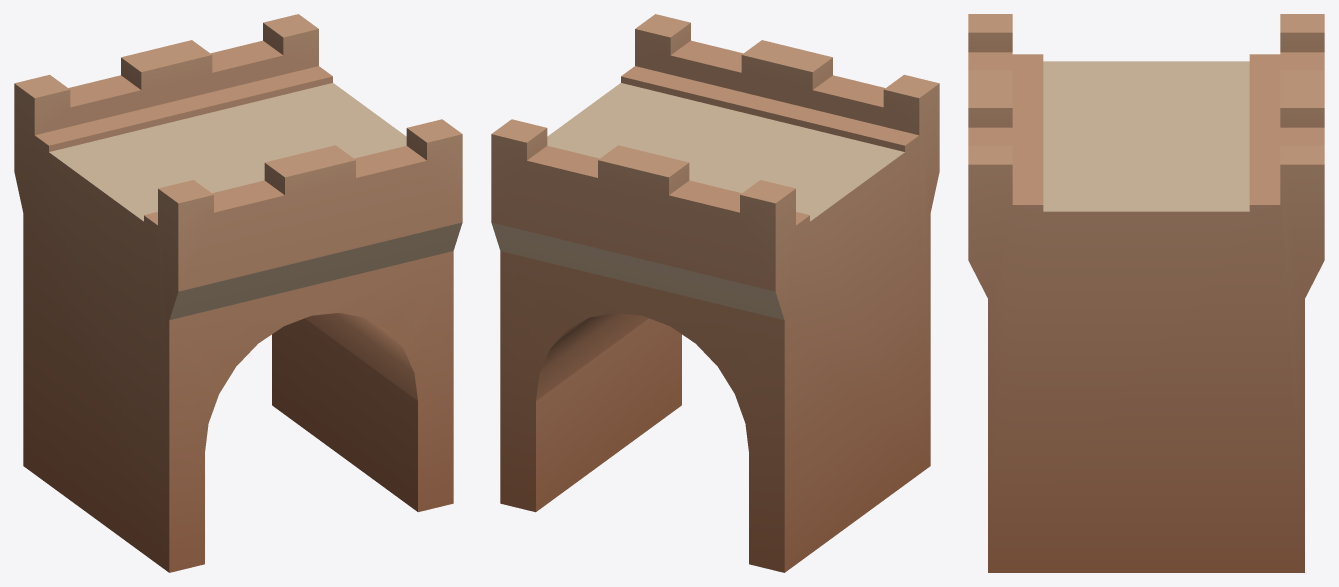
File: bridge-straight.glb
The picture shows the model from 3 angles, left to right: view 1: azimuth 30°, elevation 25°; view 2: azimuth 150°, elevation 25°; view 3: azimuth 270°, elevation 25°; orthographic projection. The views are drawn at different scales.
Visible parts, largest first — view 1: bridge-straight; view 2: bridge-straight; view 3: bridge-straight.
Part boxes in pixels (x1,y1,x2,y2): bridge-straight: [14, 14, 462, 572]; bridge-straight: [491, 14, 939, 572]; bridge-straight: [968, 14, 1324, 572].
Size of the model in its own units: 0.93 by 1.18 by 0.93.
